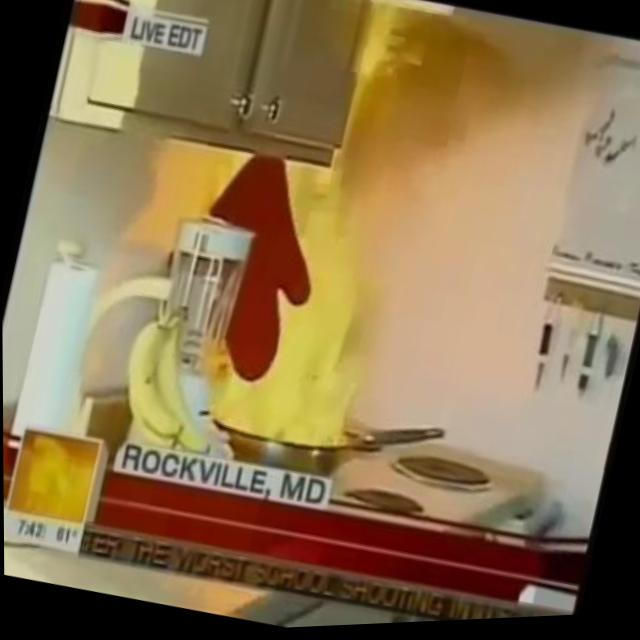fire: (189, 0, 458, 472)
